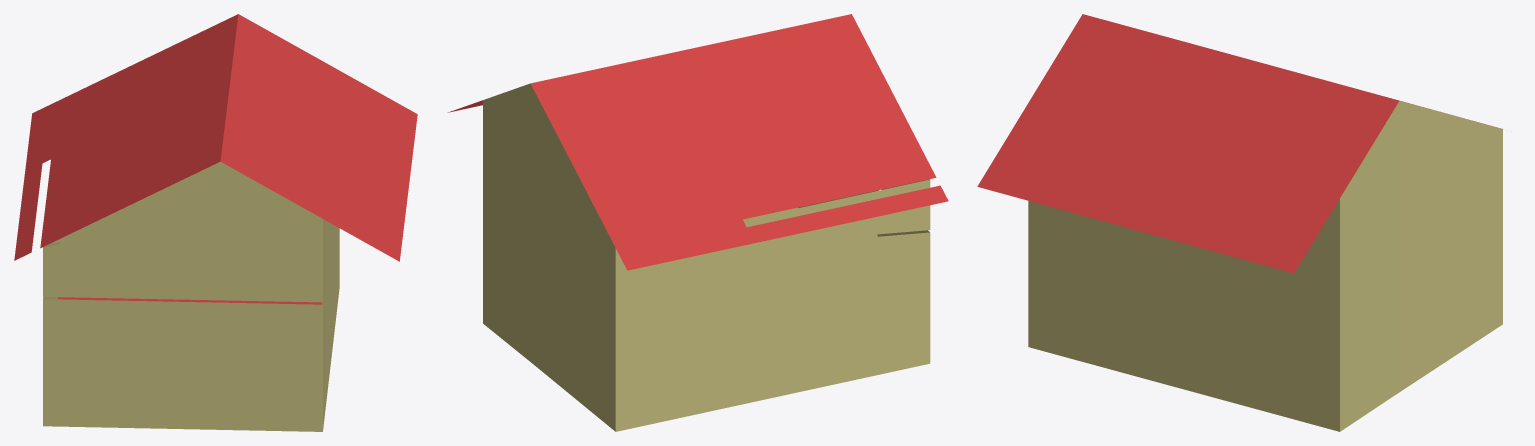
3 renders of one model, left to right at view 1: azimuth 30°, elevation 25°; view 2: azimuth 150°, elevation 25°; view 3: azimuth 270°, elevation 25°, orthographic. The views are drawn at different scales.
Bounding box in the file's own units: 20.85 × 20.42 × 12.12.
